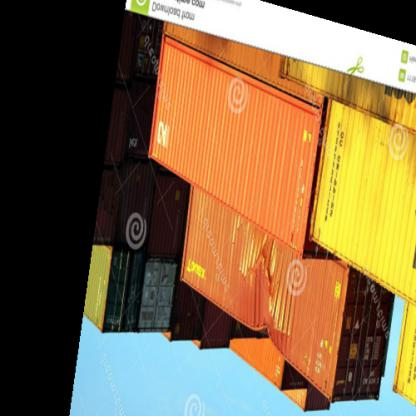Damage: (238, 249, 283, 351)
